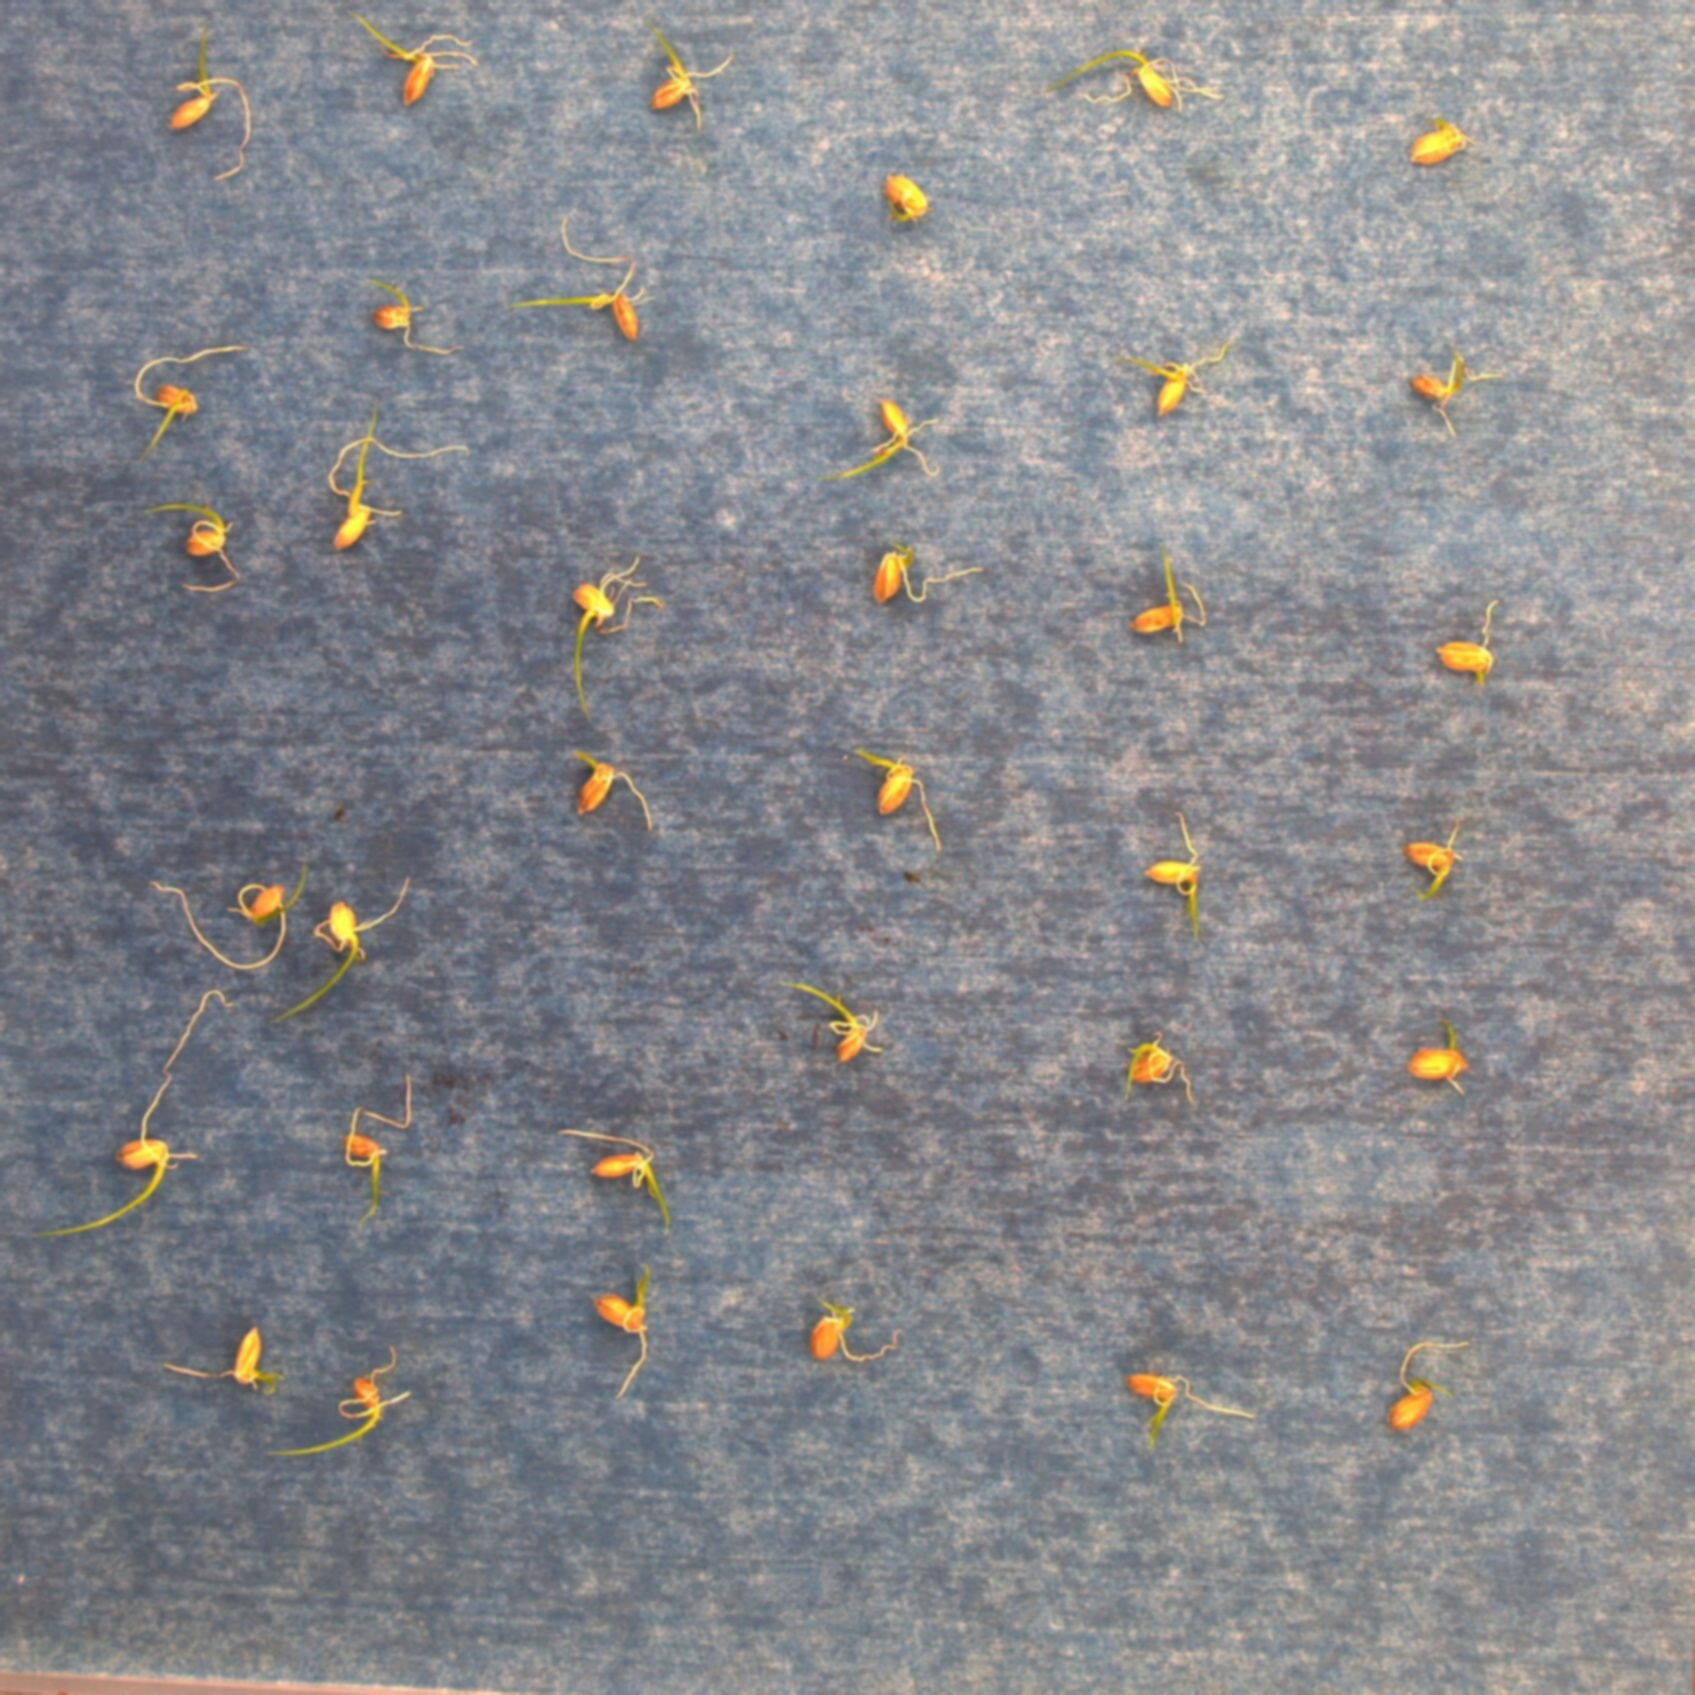not sprout: (1433, 594, 1518, 703), (366, 264, 456, 366), (1147, 338, 1229, 439), (1405, 109, 1479, 180), (875, 168, 947, 236)
sprout: (6, 986, 241, 1250), (473, 210, 658, 365), (258, 869, 421, 1034), (314, 408, 475, 565), (149, 837, 306, 978), (314, 1059, 424, 1248), (1121, 1357, 1267, 1481), (161, 3, 258, 189), (557, 553, 661, 725), (272, 1350, 422, 1467), (1124, 782, 1225, 951), (130, 324, 237, 470), (557, 1116, 680, 1243), (846, 730, 947, 860), (1063, 47, 1225, 127), (861, 508, 976, 618), (790, 1281, 914, 1380), (349, 9, 480, 102), (567, 1256, 653, 1394), (1400, 799, 1482, 945), (636, 26, 747, 130), (1388, 354, 1504, 452), (1381, 1327, 1475, 1445), (183, 467, 259, 612), (799, 969, 889, 1090), (1124, 563, 1220, 667), (871, 369, 951, 483), (165, 1322, 303, 1386), (1116, 1018, 1198, 1121), (1405, 1029, 1496, 1108), (556, 739, 638, 826)
